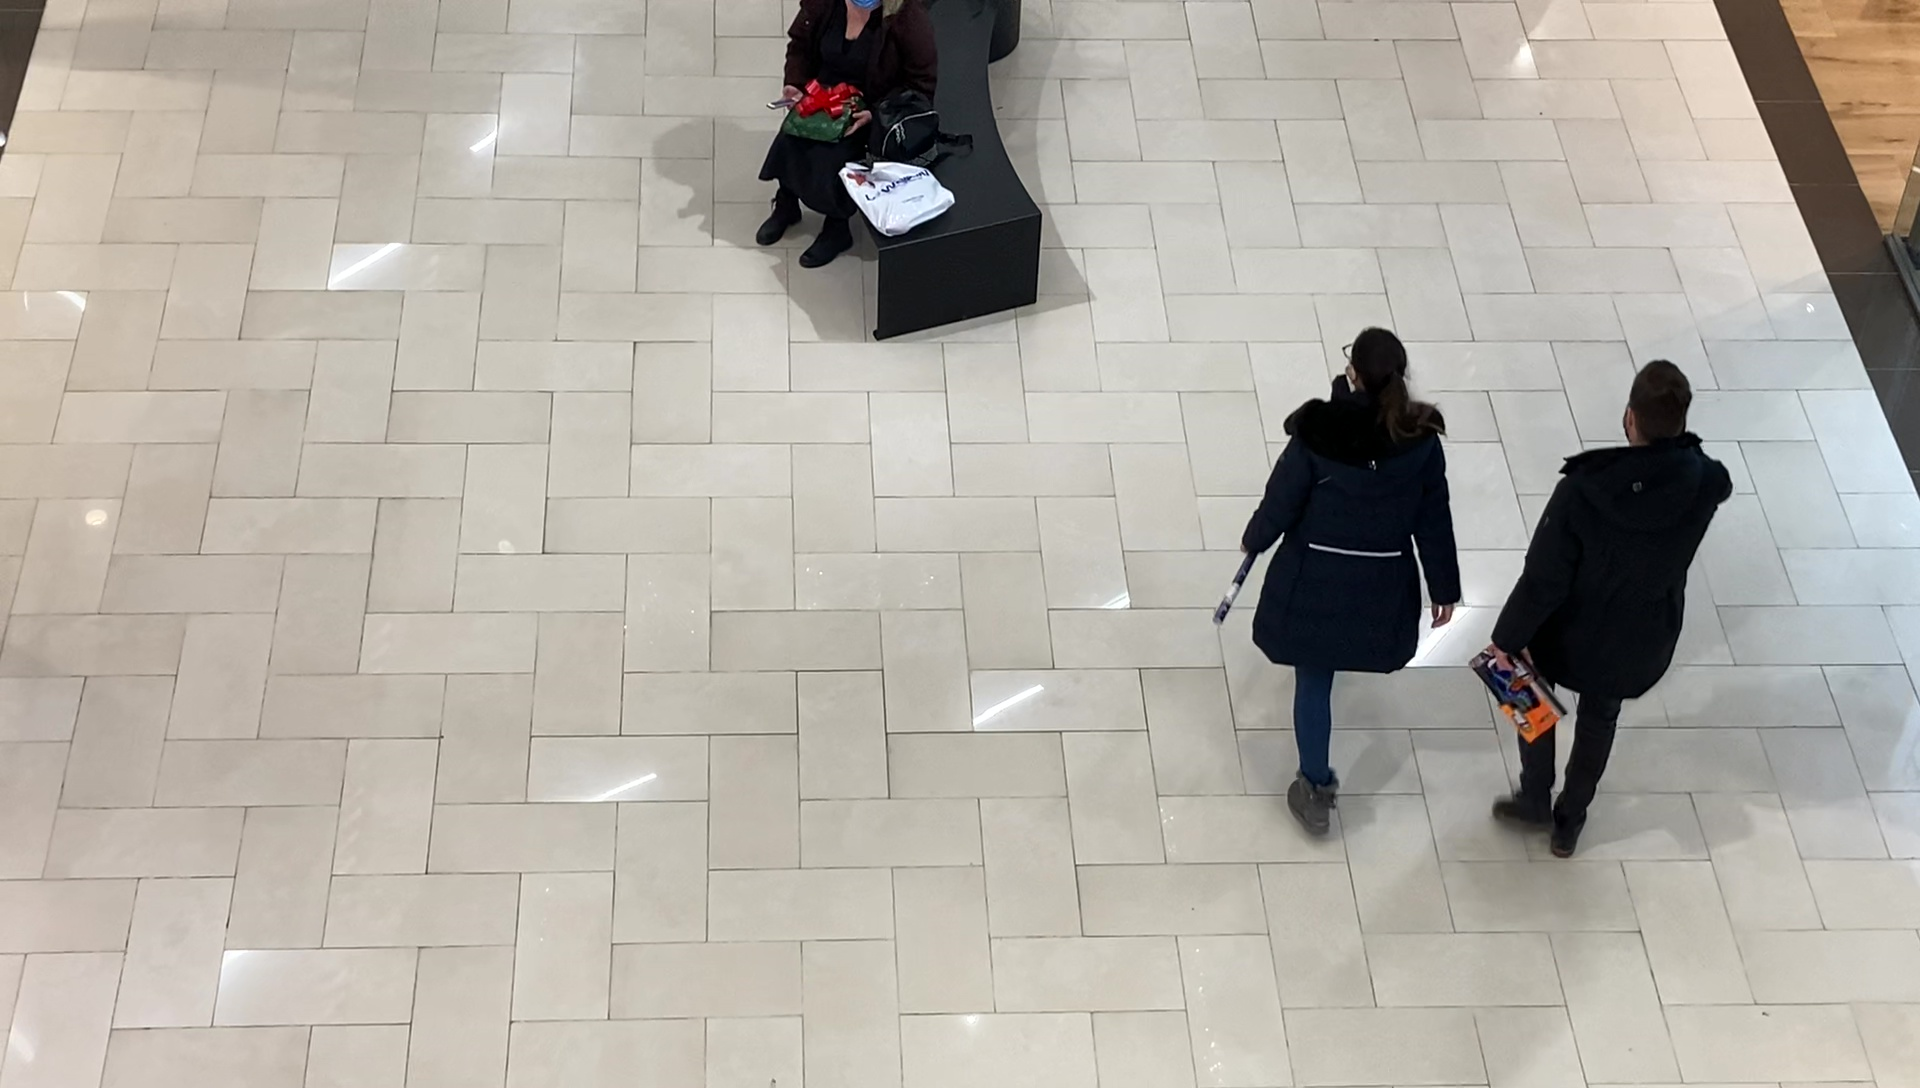person: (1496, 361, 1731, 861), (1239, 326, 1464, 837)
